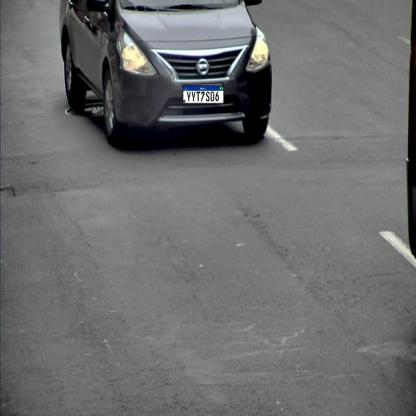PlacaM: (183, 85, 224, 104)
